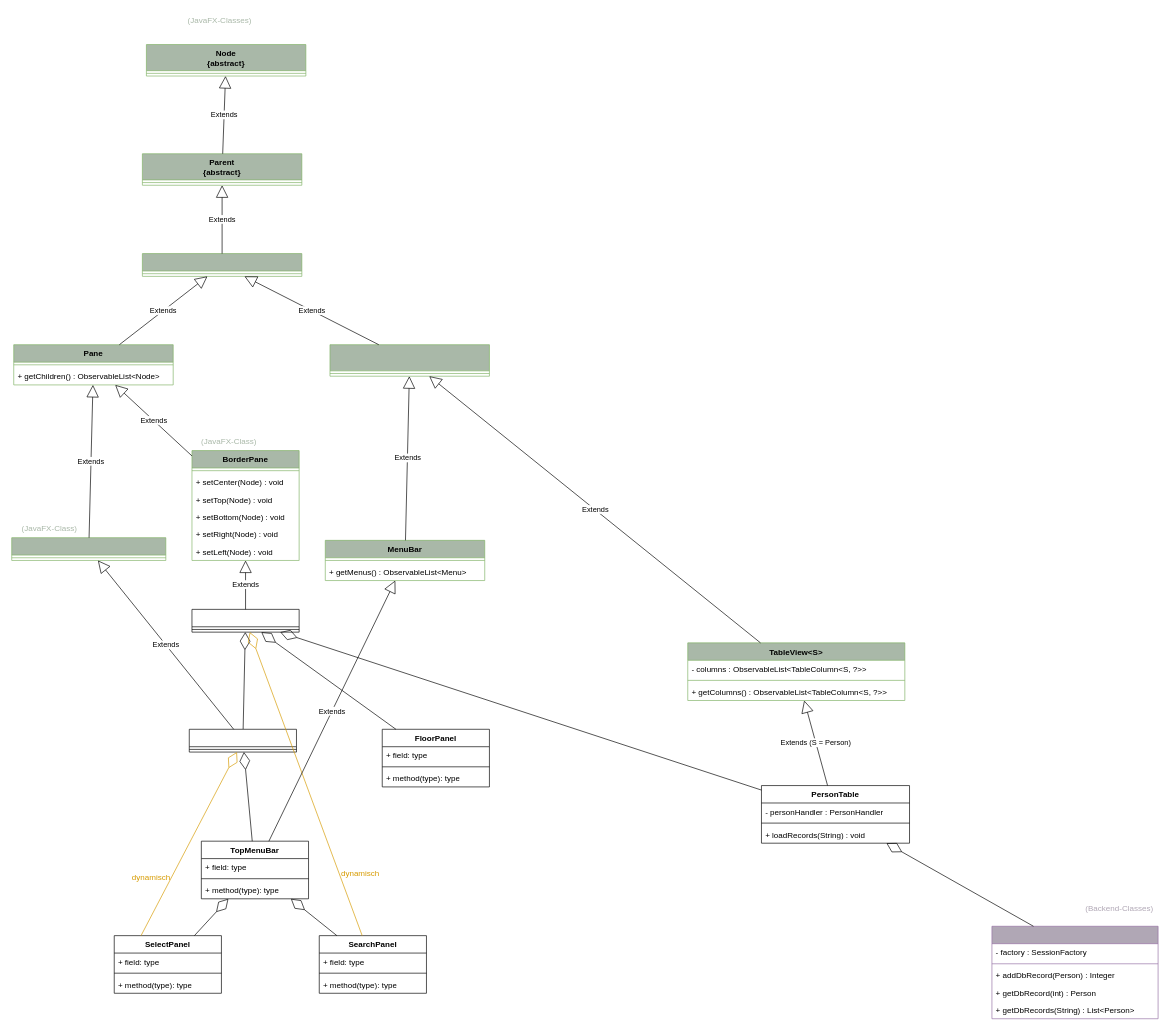
The diagram is 1170 pixels wide and 1032 high, and some of its shapes have lost their labels. The shapes that lost their labels are listed below. From the top down, each one's box as (x1, y1, x2, y2) in pixels, then its label:
(142, 253, 302, 276): Region
(329, 344, 489, 376): Control {abstract}
(11, 537, 166, 560): VBox
(191, 609, 299, 632): MainPanel
(189, 729, 296, 752): RoofPanel
(991, 926, 1158, 1019): PersonHandler
